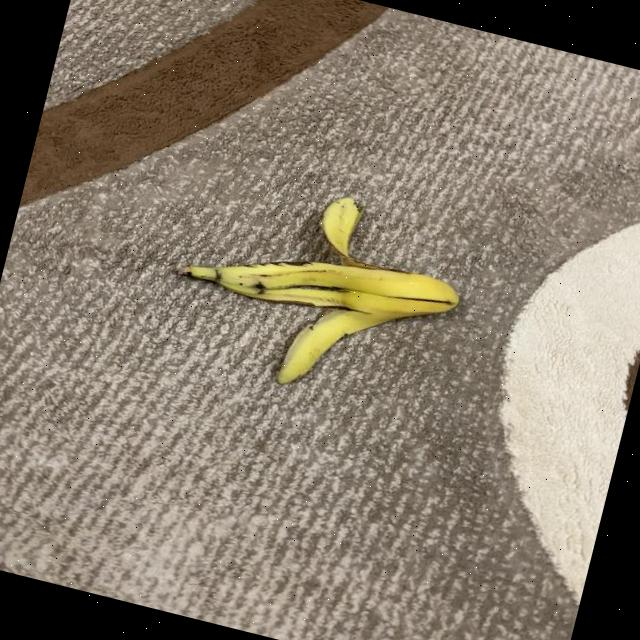banana-peel: (154, 159, 477, 420)
